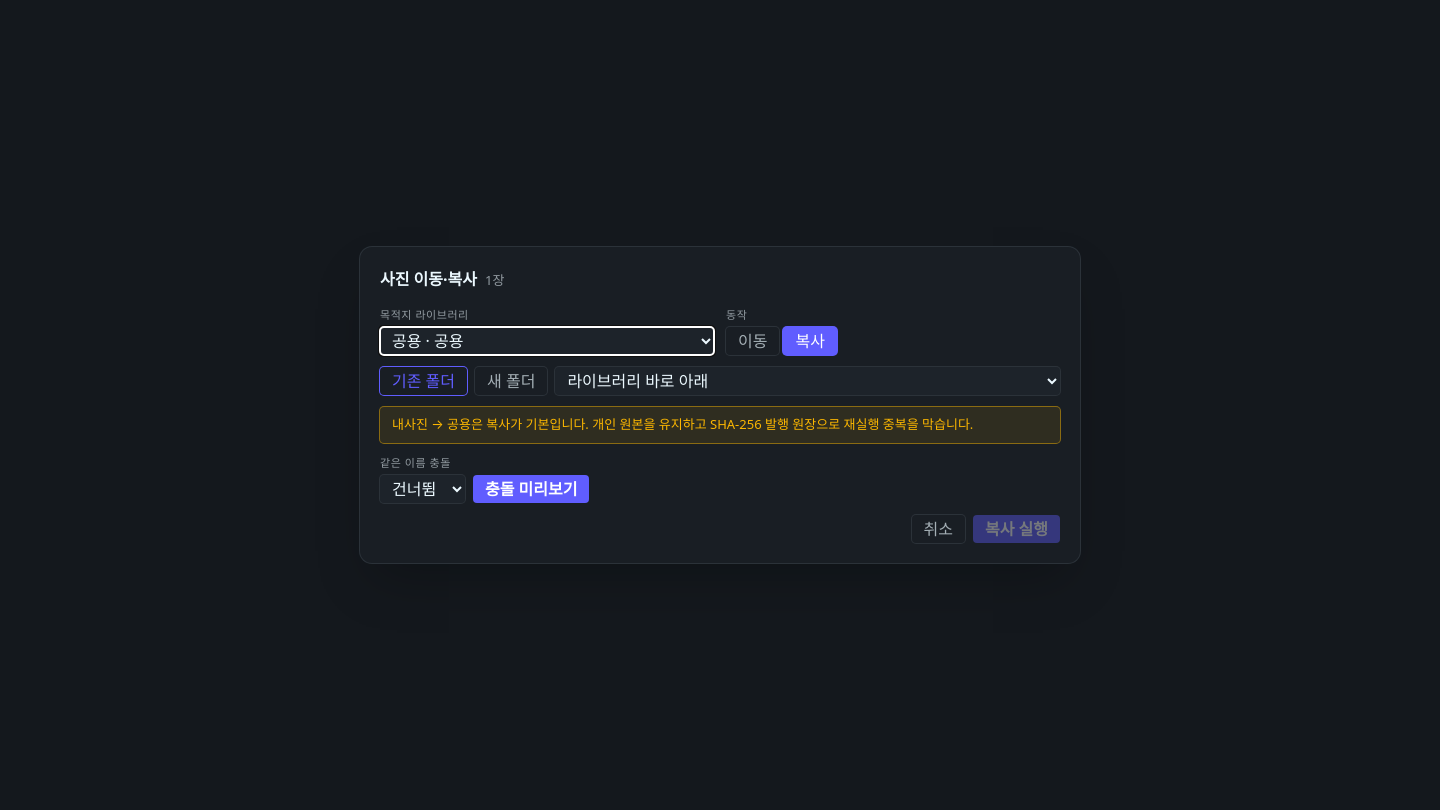
임의 이동·복사와 공용 발행 › 전부 건너뛴 실행을 성공처럼 닫지 않고 이유를 보여 준다
Click the button "충돌 미리보기" at (531, 489), box [473,475,590,503]
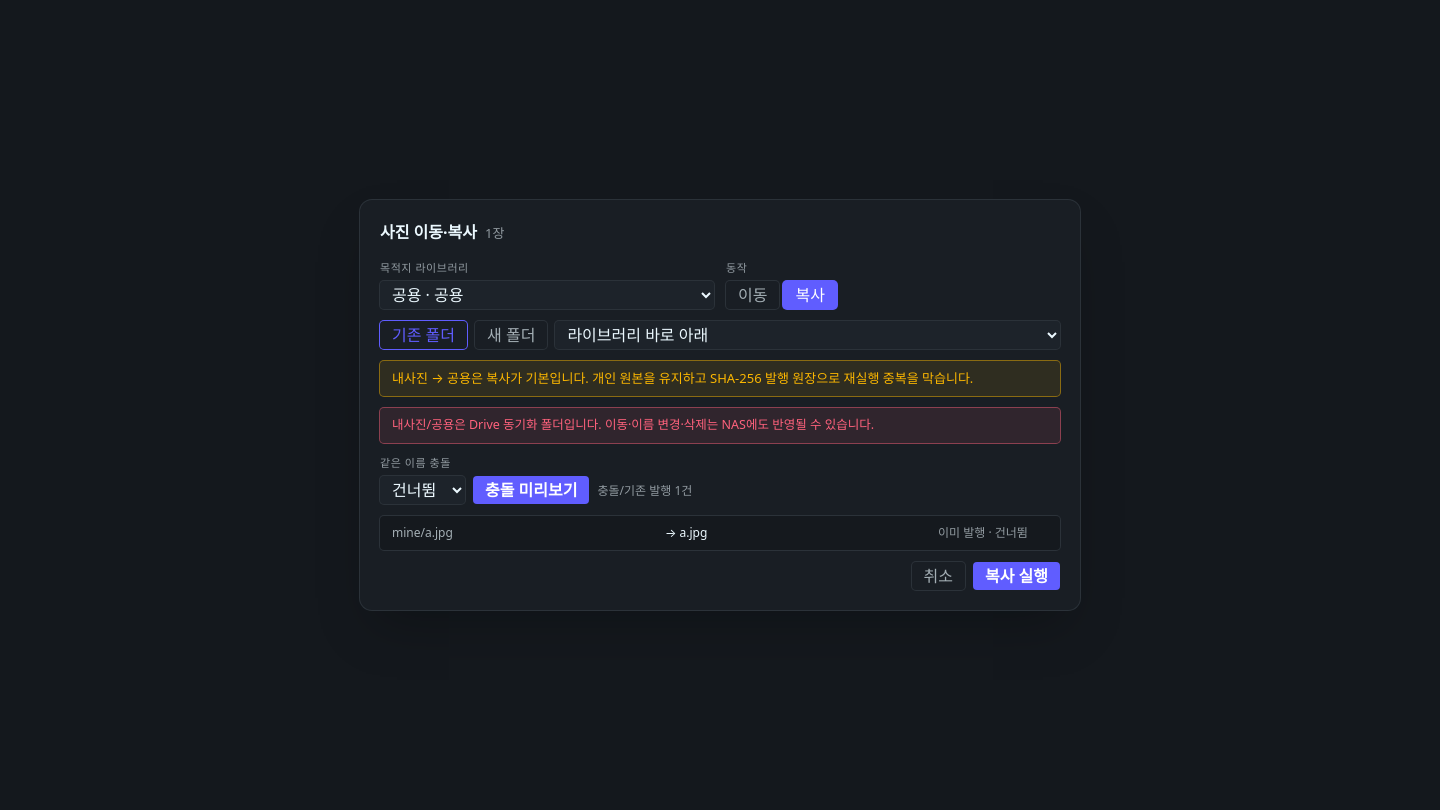
Click the button "복사 실행" at (1016, 576), box [973,562,1060,590]
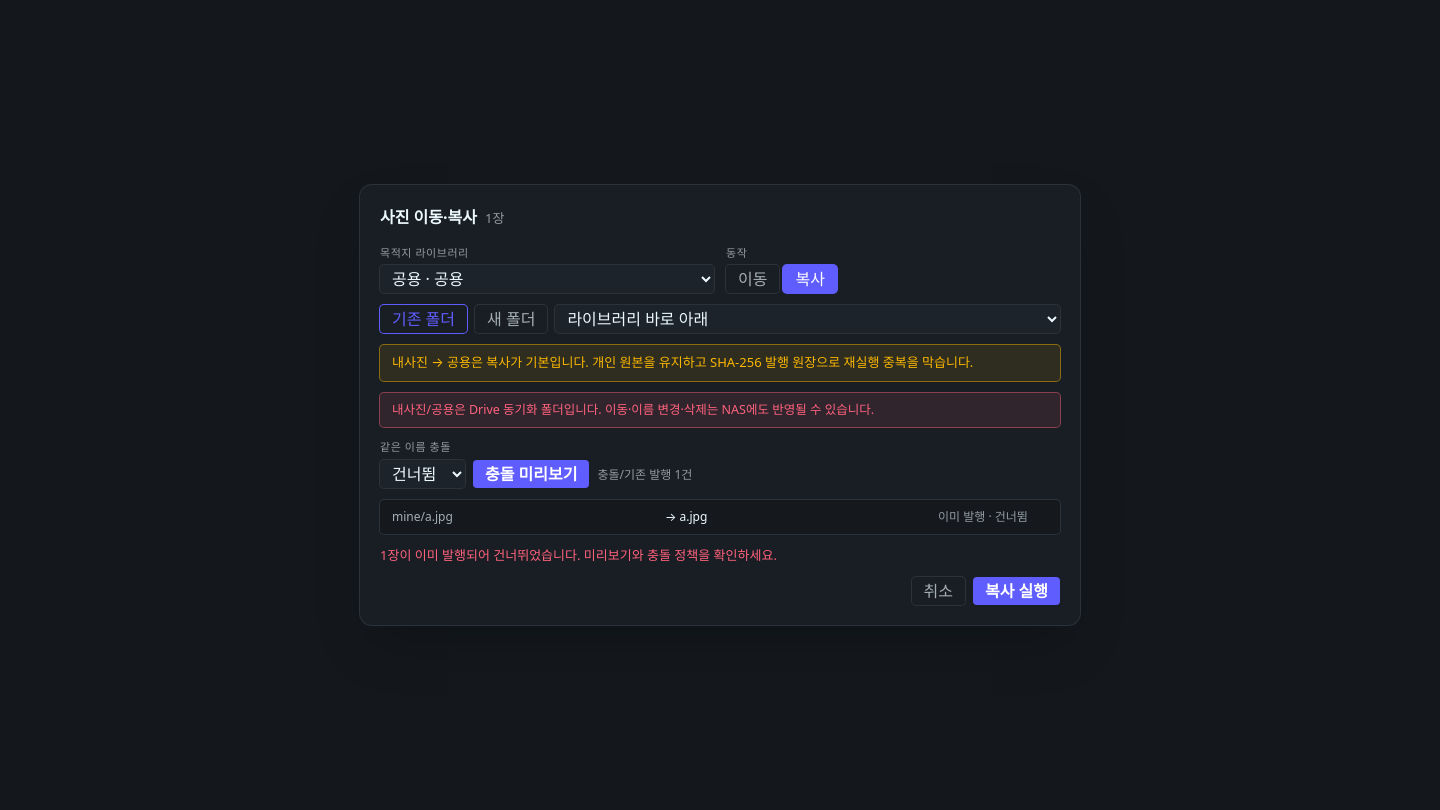
Expected: the message shows "이미 발행", [380,546,777,564]
